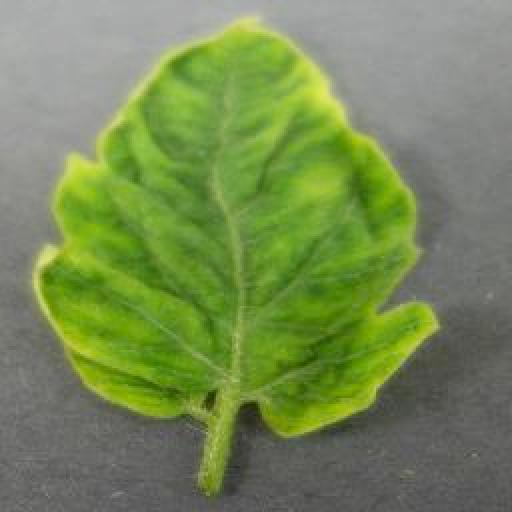disease_tomato: (30, 16, 444, 442)
